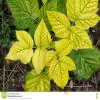Raspberry leaf: (4, 30, 34, 63), (66, 0, 99, 30), (49, 56, 76, 91), (45, 10, 71, 39), (67, 25, 94, 50), (34, 16, 50, 47), (32, 47, 49, 75), (56, 39, 76, 59), (44, 50, 57, 67)
